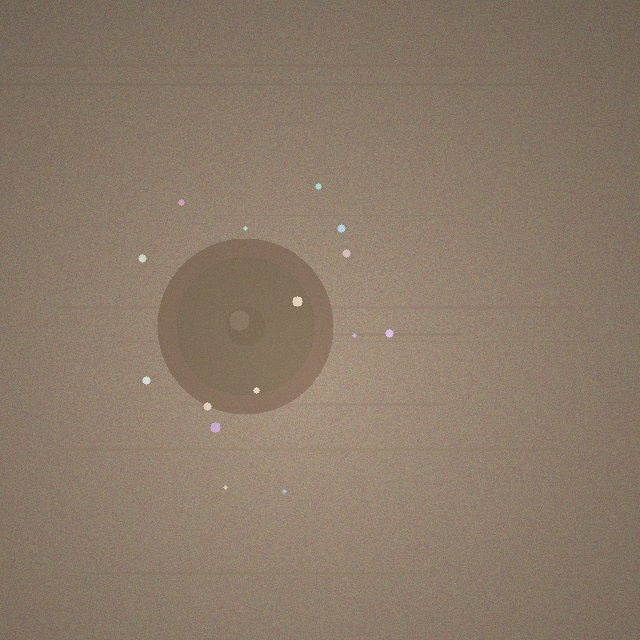overburn: (157, 238, 333, 414)
